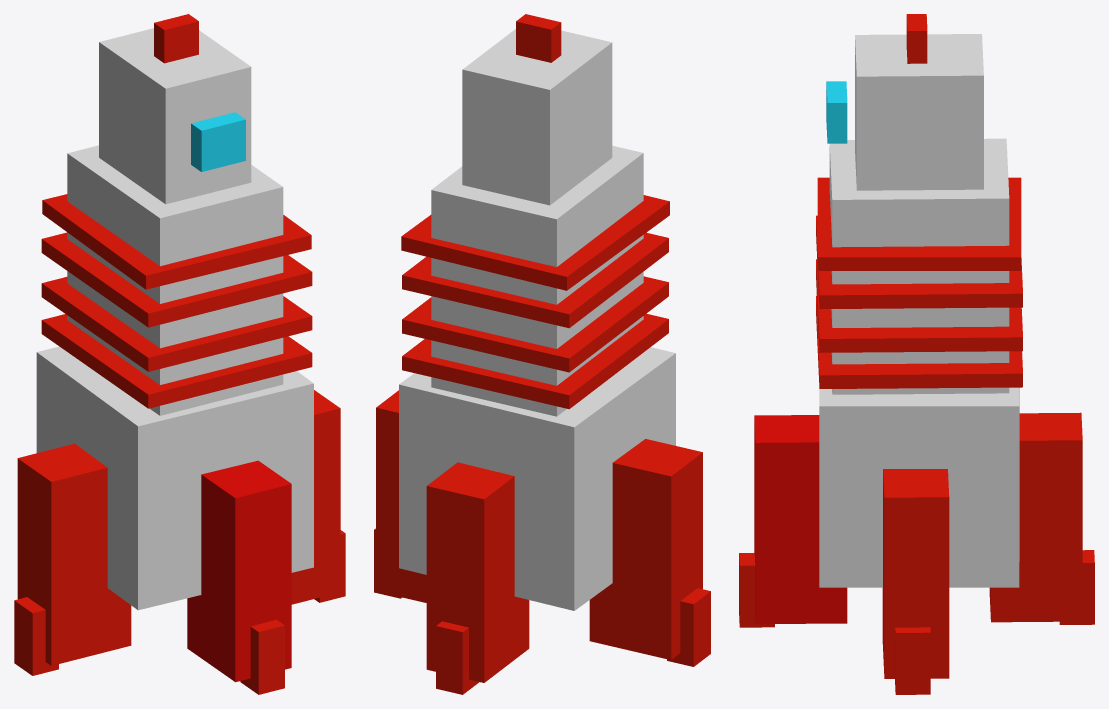
File: Rocket.fbx
The picture shows the model from 3 angles, left to right: view 1: azimuth 30°, elevation 25°; view 2: azimuth 150°, elevation 25°; view 3: azimuth 270°, elevation 25°; orthographic projection.
Visible parts, largest first — view 1: Cube, Cube.005, Cube.006, Cube.004, Cube.002, Cube.008, Cube.015, Cube.014, Cube.016, Cube.001, Cube.007, Cube.010 (+3 smaller); view 2: Cube, Cube.005, Cube.006, Cube.004, Cube.003, Cube.016, Cube.008, Cube.014, Cube.015, Cube.001, Cube.013, Cube.012 (+1 smaller); view 3: Cube, Cube.005, Cube.006, Cube.002, Cube.003, Cube.001, Cube.016, Cube.008, Cube.015, Cube.014, Cube.011, Cube.007 (+3 smaller).
Part boxes in pixels (box(x1,y1,x2,y2)): Cube: box(36, 346, 313, 610); Cube.005: box(67, 145, 283, 415); Cube.006: box(99, 28, 251, 204); Cube.004: box(17, 443, 131, 665); Cube.002: box(187, 460, 291, 682); Cube.008: box(41, 277, 312, 371); Cube.015: box(41, 314, 312, 408); Cube.014: box(41, 232, 312, 327); Cube.016: box(42, 194, 311, 289); Cube.001: box(291, 390, 340, 604); Cube.007: box(191, 112, 245, 171); Cube.010: box(240, 619, 284, 694); Cube: box(399, 347, 675, 610); Cube.005: box(431, 145, 643, 416); Cube.006: box(462, 29, 612, 205); Cube.004: box(589, 439, 702, 659); Cube.003: box(426, 462, 529, 682); Cube.016: box(401, 195, 669, 290); Cube.008: box(402, 276, 668, 372); Cube.014: box(402, 232, 668, 328); Cube.015: box(402, 313, 668, 409); Cube.001: box(376, 390, 426, 602); Cube.013: box(436, 621, 479, 694); Cube.012: box(667, 588, 710, 666); Cube: box(819, 387, 1019, 587); Cube.005: box(829, 138, 1009, 394); Cube.006: box(855, 34, 983, 190); Cube.002: box(754, 415, 847, 624); Cube.003: box(989, 412, 1082, 622); Cube.001: box(882, 469, 949, 678); Cube.016: box(817, 177, 1021, 270); Cube.008: box(816, 259, 1022, 352); Cube.015: box(816, 295, 1022, 388); Cube.014: box(816, 215, 1022, 309); Cube.011: box(895, 627, 930, 694); Cube.007: box(826, 81, 847, 143).
Bounding box in the file's own units: 361 × 658 × 356.
